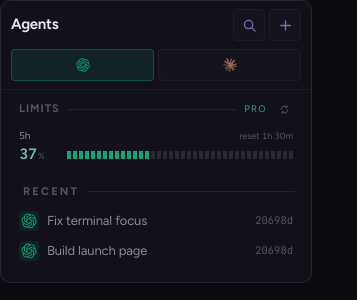
Test: agent rail › shows live plan windows only for detected Codex and Claude providers
Expected: the element named "Codex plan limits" is shown, [11,102,301,162]
Expected: the text "reset 1h 30m" is shown, [239,130,293,141]
Click the tab named "Claude".
click(230, 65)  # box [158,49,301,81]
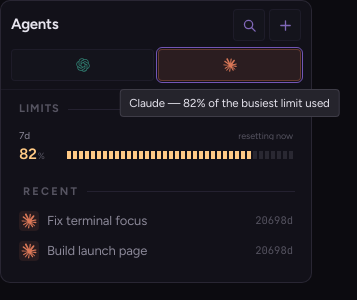
Now the element named "Claude plan limits" is shown, box [11,102,301,162]
